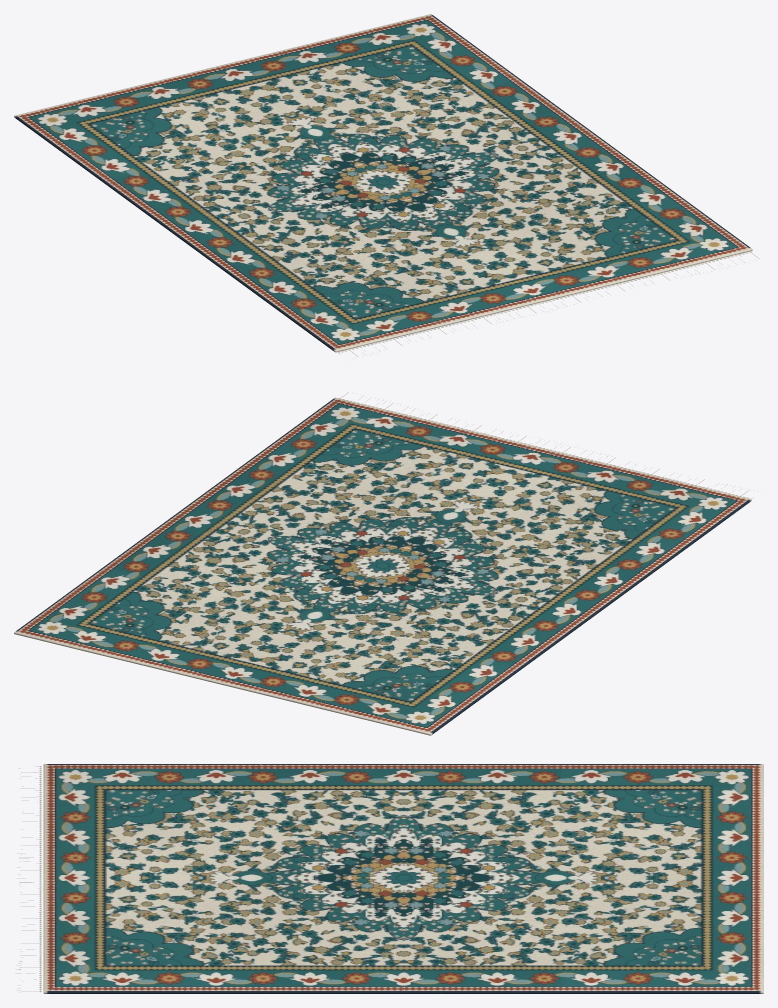
Rendered from rug-isfahan-wall.lite.b8927b81.glb.
3 views of the same model, one above another, from view 1: azimuth 30°, elevation 25°; view 2: azimuth 150°, elevation 25°; view 3: azimuth 270°, elevation 25° (orthographic). The views are drawn at different scales.
Visible parts, largest first — view 1: rug-isfahan-wall, rug-isfahan-wall-fringe; view 2: rug-isfahan-wall, rug-isfahan-wall-fringe; view 3: rug-isfahan-wall, rug-isfahan-wall-fringe.
Boxes of the visible parts, bbox=[...] form: rug-isfahan-wall: bbox=[14, 14, 752, 352]; rug-isfahan-wall-fringe: bbox=[337, 251, 759, 359]; rug-isfahan-wall: bbox=[14, 397, 751, 735]; rug-isfahan-wall-fringe: bbox=[338, 392, 753, 499]; rug-isfahan-wall: bbox=[43, 764, 763, 993]; rug-isfahan-wall-fringe: bbox=[15, 766, 43, 992].
Bounding box in the file's own units: 1.5 × 0.007 × 2.08.
2 materials, 2 textured.
